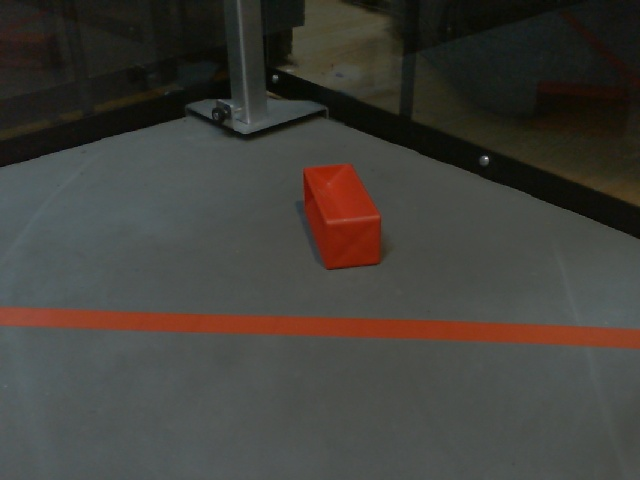RedSample: (299, 160, 385, 269)
